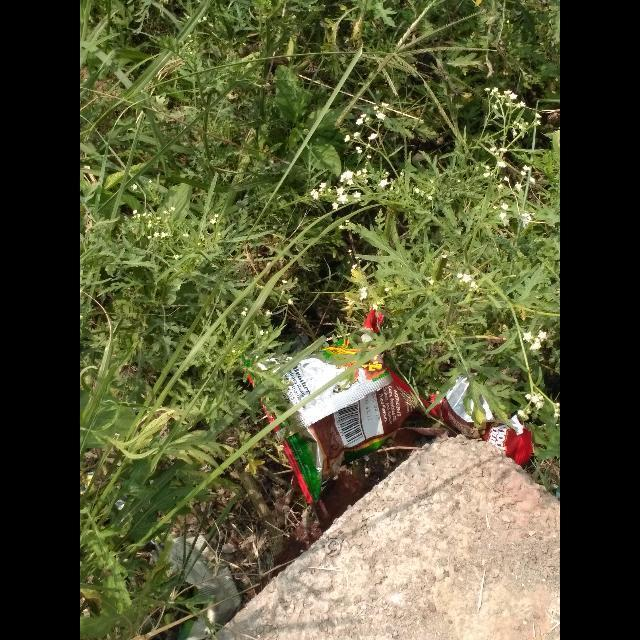Plastic: (240, 308, 440, 502), (153, 534, 241, 640), (432, 377, 532, 467)
